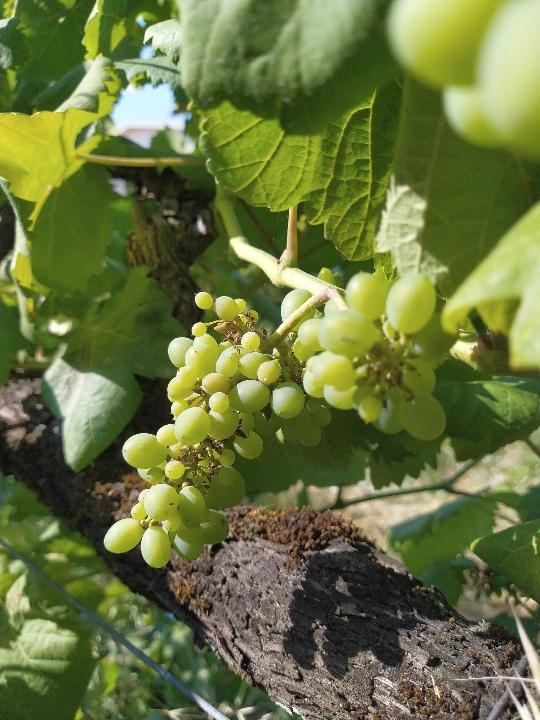grape: (99, 288, 332, 570), (291, 268, 459, 447)
